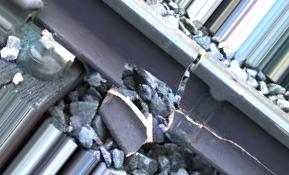tracks_fault: (167, 43, 211, 139)
